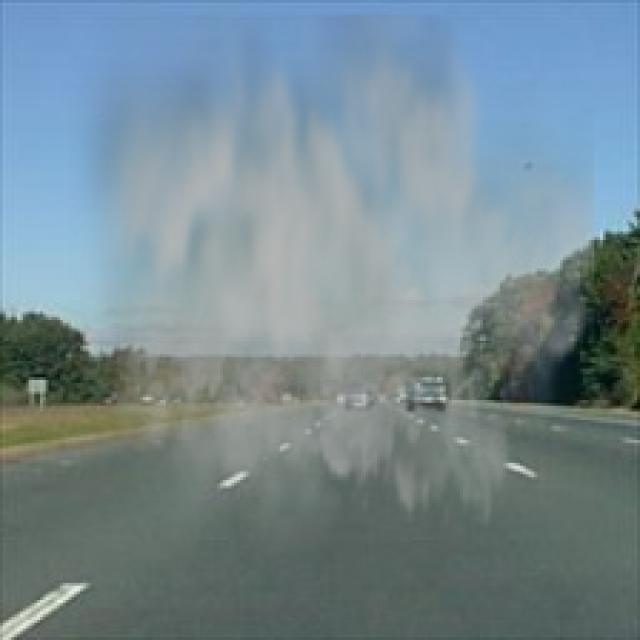smoke: (69, 14, 594, 580)
